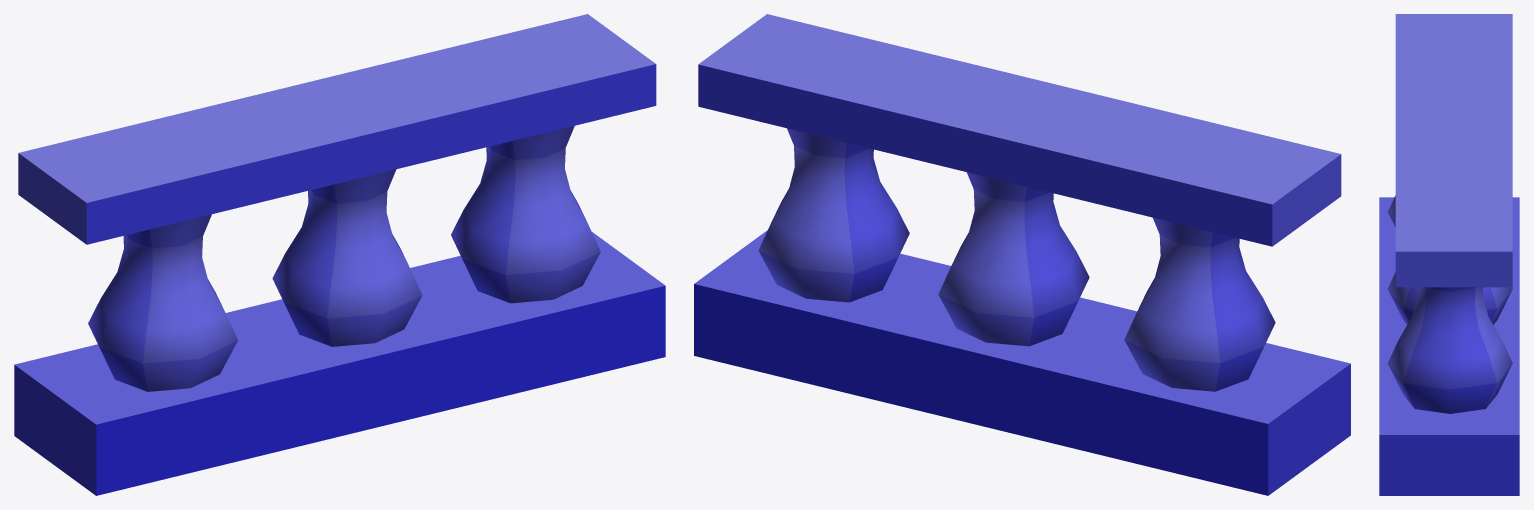
The model's file is barrier_02.fbx.
3 renders of one model, left to right at view 1: azimuth 30°, elevation 25°; view 2: azimuth 150°, elevation 25°; view 3: azimuth 270°, elevation 25°, orthographic. The views are drawn at different scales.
Parts seen in each view (by area): view 1: barrier_02; view 2: barrier_02; view 3: barrier_02.
Boxes of the visible parts, <box> form: barrier_02: <box>14,14,665,495</box>; barrier_02: <box>694,14,1350,495</box>; barrier_02: <box>1379,14,1519,495</box>.
Bounding box in the file's own units: 100 × 48.1 × 25.
Materials: 1 (1 with a texture image).
